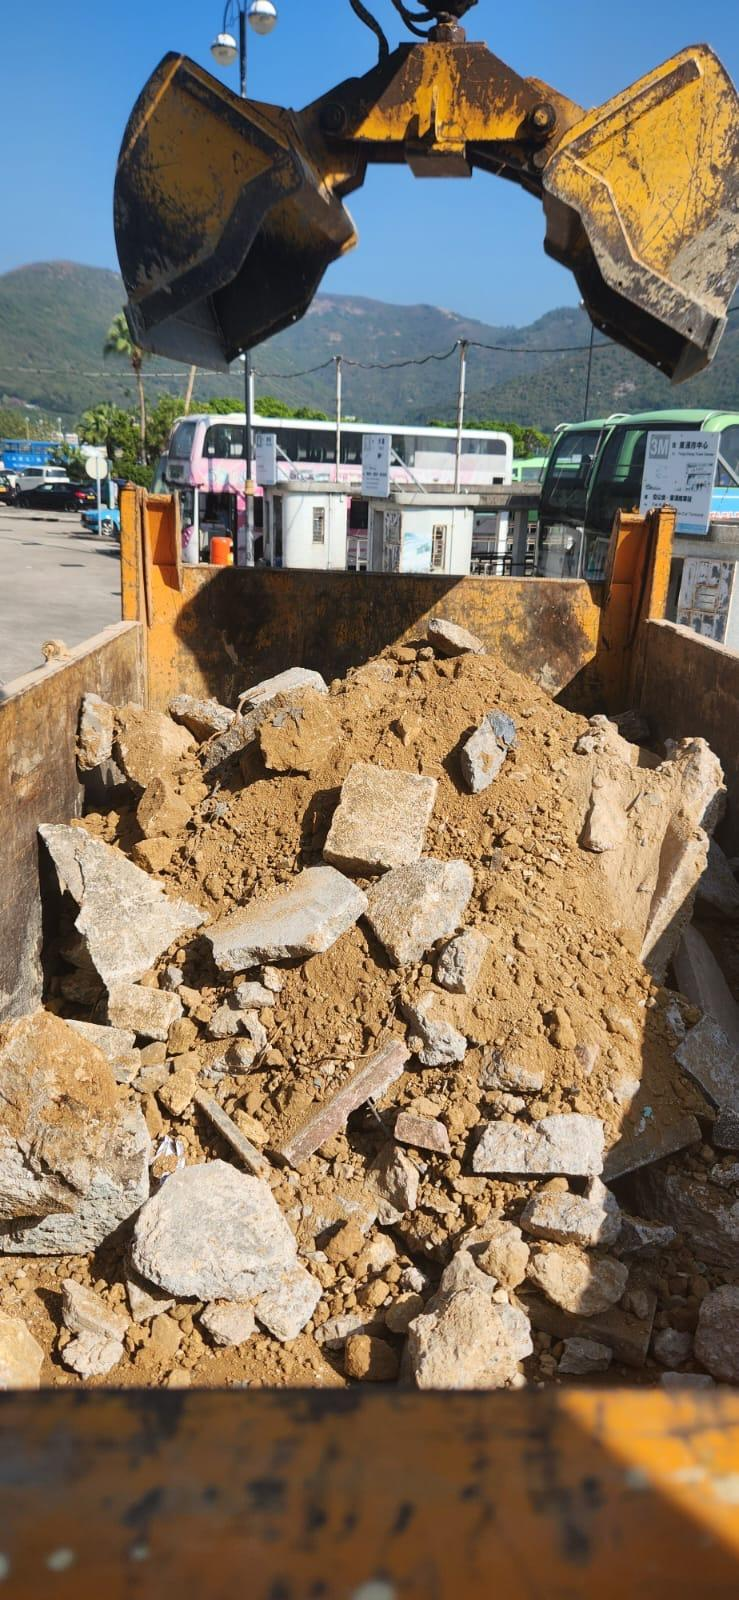dry: (185, 712, 602, 1262)
